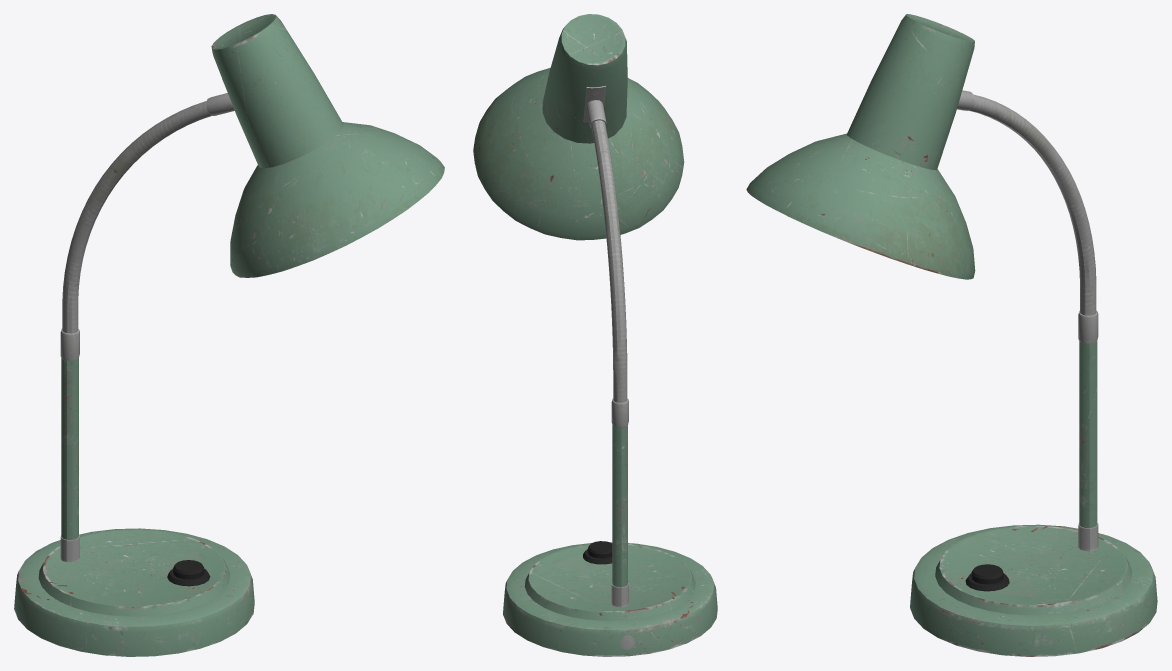
Rendered from lamb.fbx.
3 views of the same model, side by side, from view 1: azimuth 30°, elevation 25°; view 2: azimuth 150°, elevation 25°; view 3: azimuth 270°, elevation 25° (orthographic). The views are drawn at different scales.
Visible parts, largest first — view 1: Cylinder023; view 2: Cylinder023; view 3: Cylinder023.
Boxes of the visible parts, left/top/right/bottom form: Cylinder023: left=14, top=14, right=444, bottom=656; Cylinder023: left=473, top=14, right=717, bottom=656; Cylinder023: left=746, top=14, right=1157, bottom=656.
Bounding box in the file's own units: 0.2859 × 0.3076 × 0.5156.
Materials: 1 (1 with a texture image).
